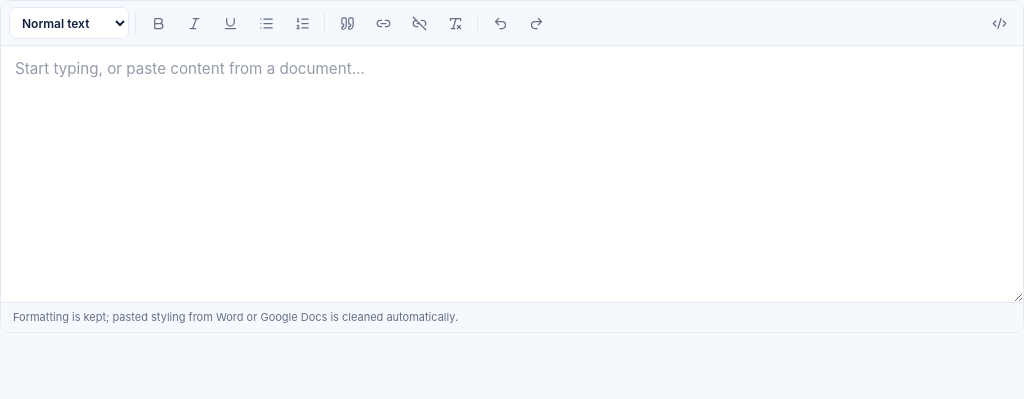
Test: RichTextEditor — link editing › opens an inline address field instead of a browser prompt
The image size is (1024, 399).
Click the button named "add or edit link": point(383, 23) [367,7,399,39]
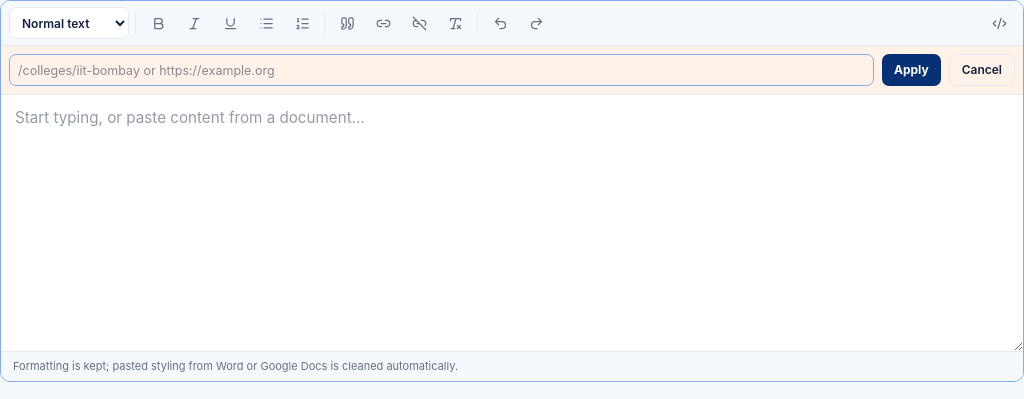
Result: the field named "link address" is shown at [9,54,874,86]
